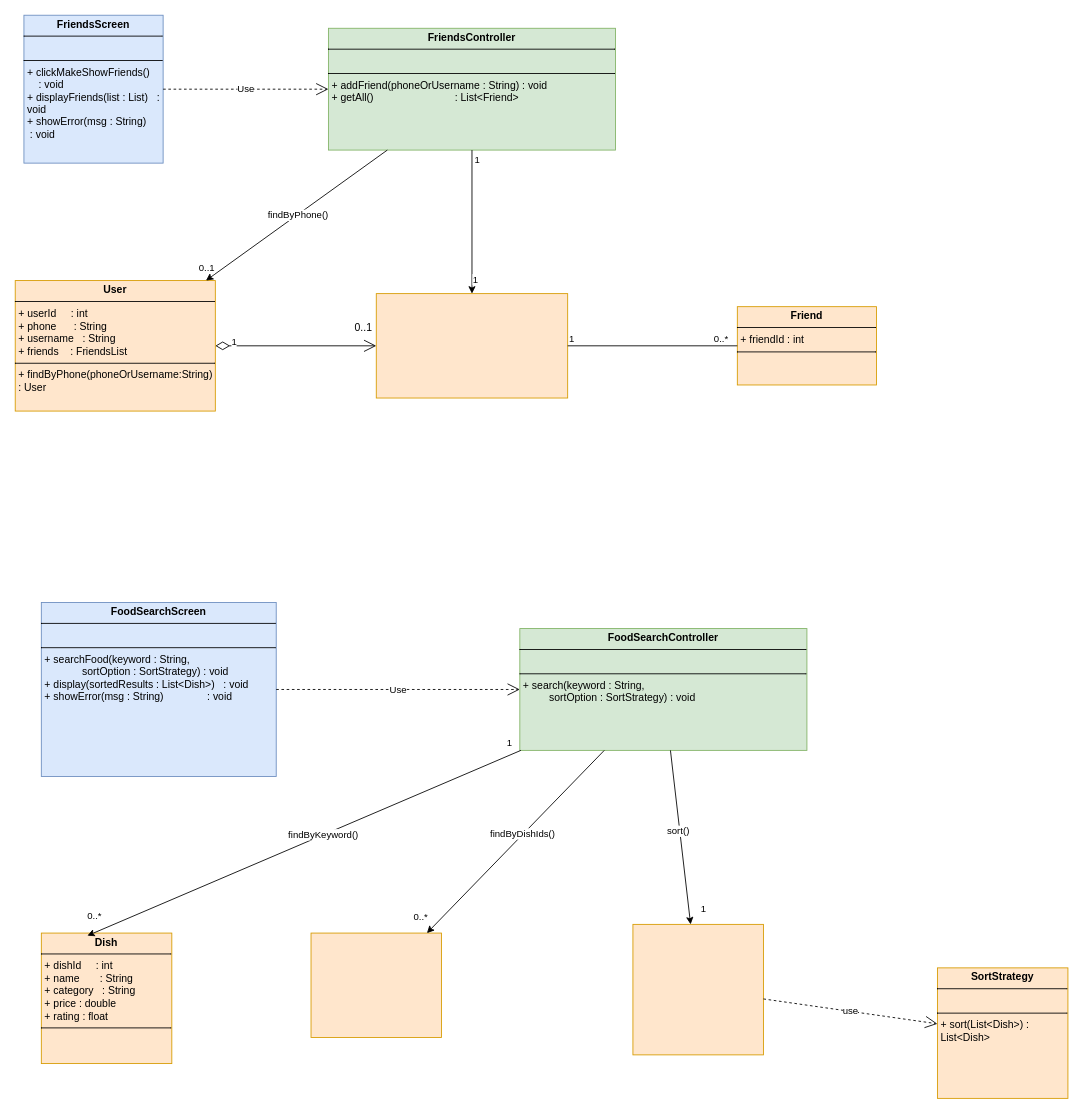
Some shapes in this 1083 by 1114 pixel diagram are drawn without their labels. Each missing label, with the box of its shape:
FriendsList + add(userId : int) : void + getAll() : List<Friend>: (375, 293, 568, 398)
Recipe + recipeId : int + text : String: (310, 932, 442, 1037)
SortHelper + sort(results : List<Dish>, strategy : SortStrategy) : List<Dish>: (632, 924, 763, 1055)
